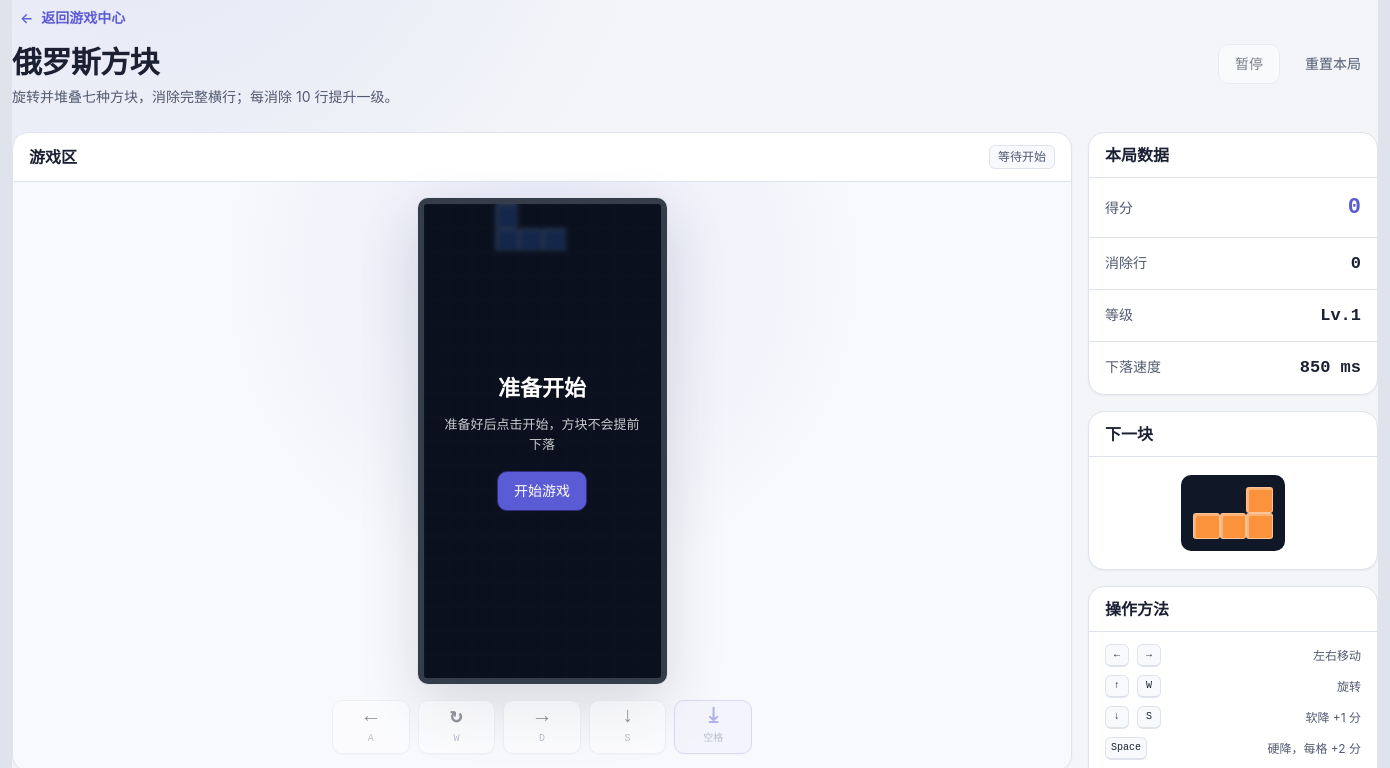
TetrisGamePage › supports keyboard movement and on-screen hard drop, then resets
Step 1. Click the button "开始游戏" → (542, 491), box [497,471,587,511]
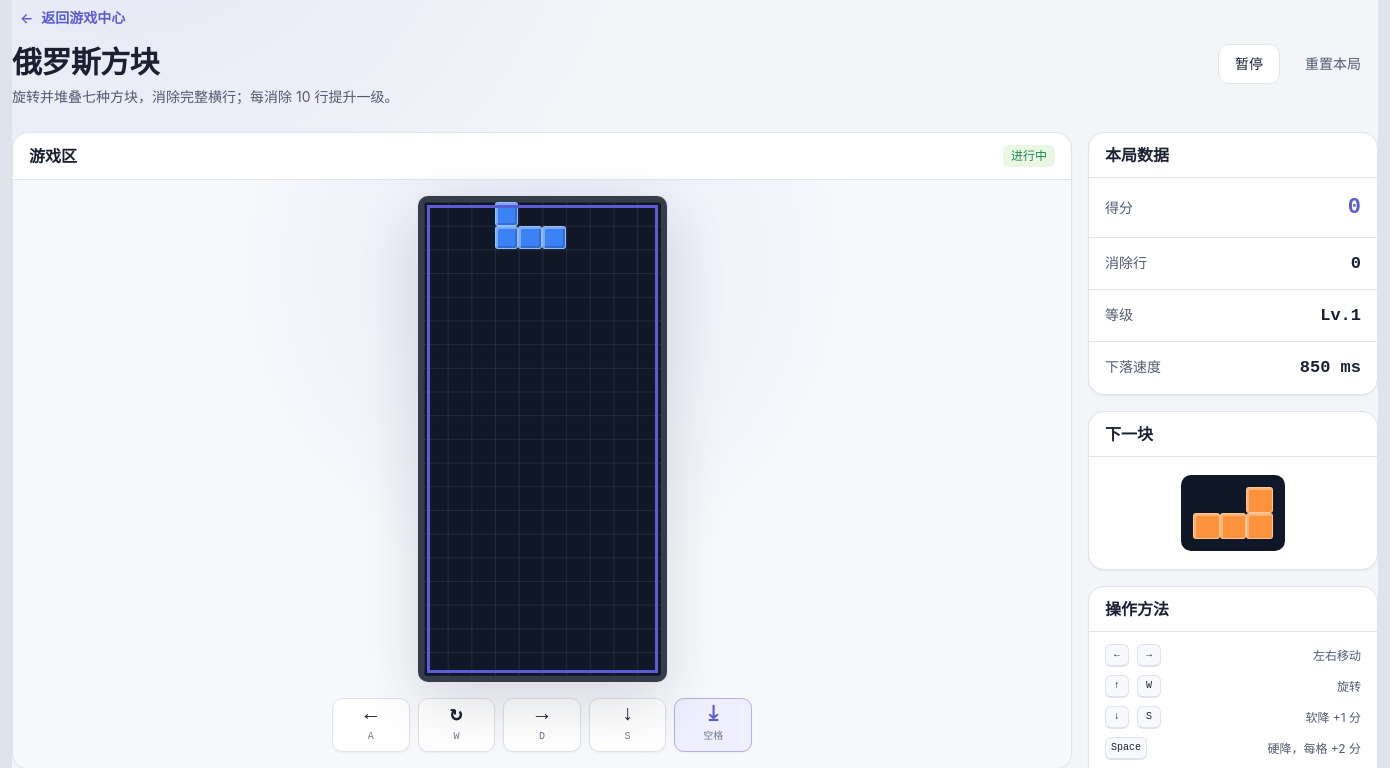
Step 2. Press ArrowLeft
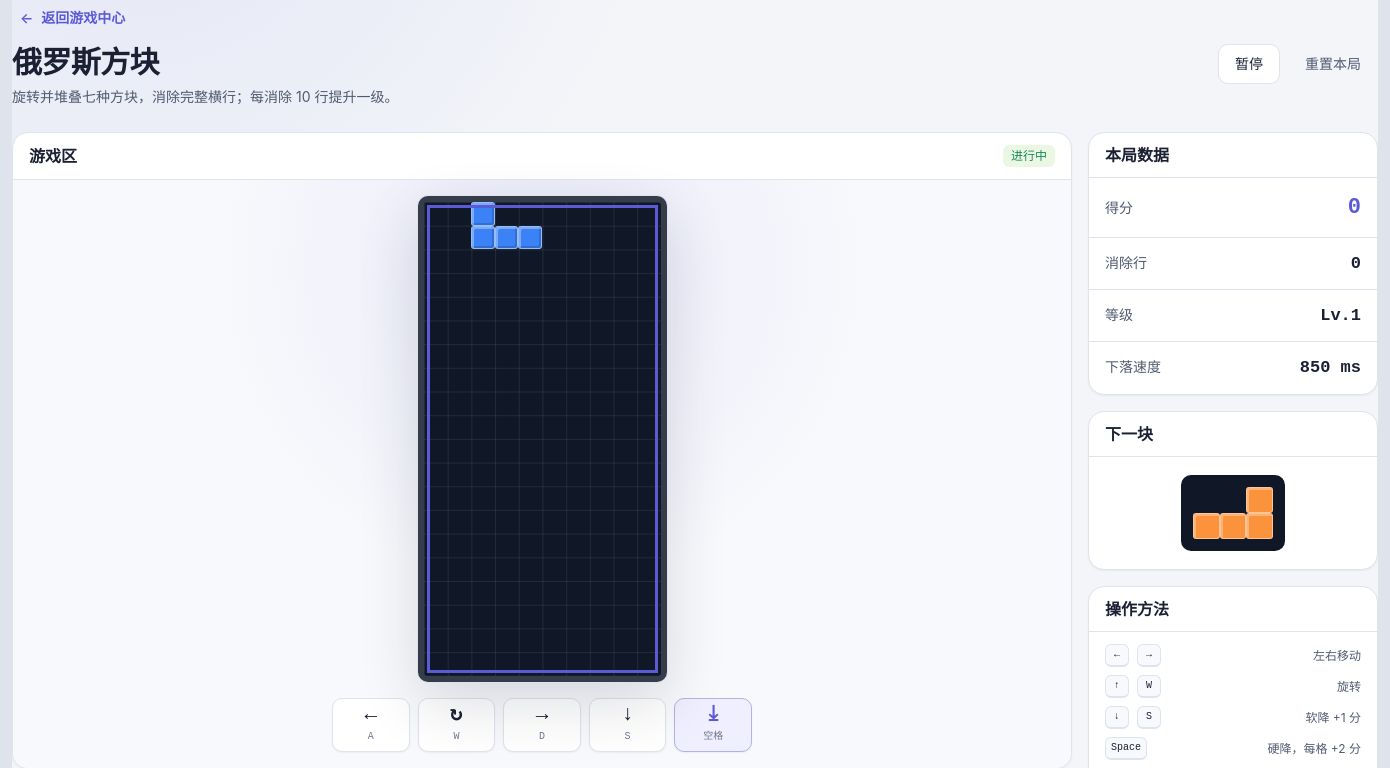
Step 3. Click the button with aria-label "硬降" → (713, 725), box [674,698,752,752]
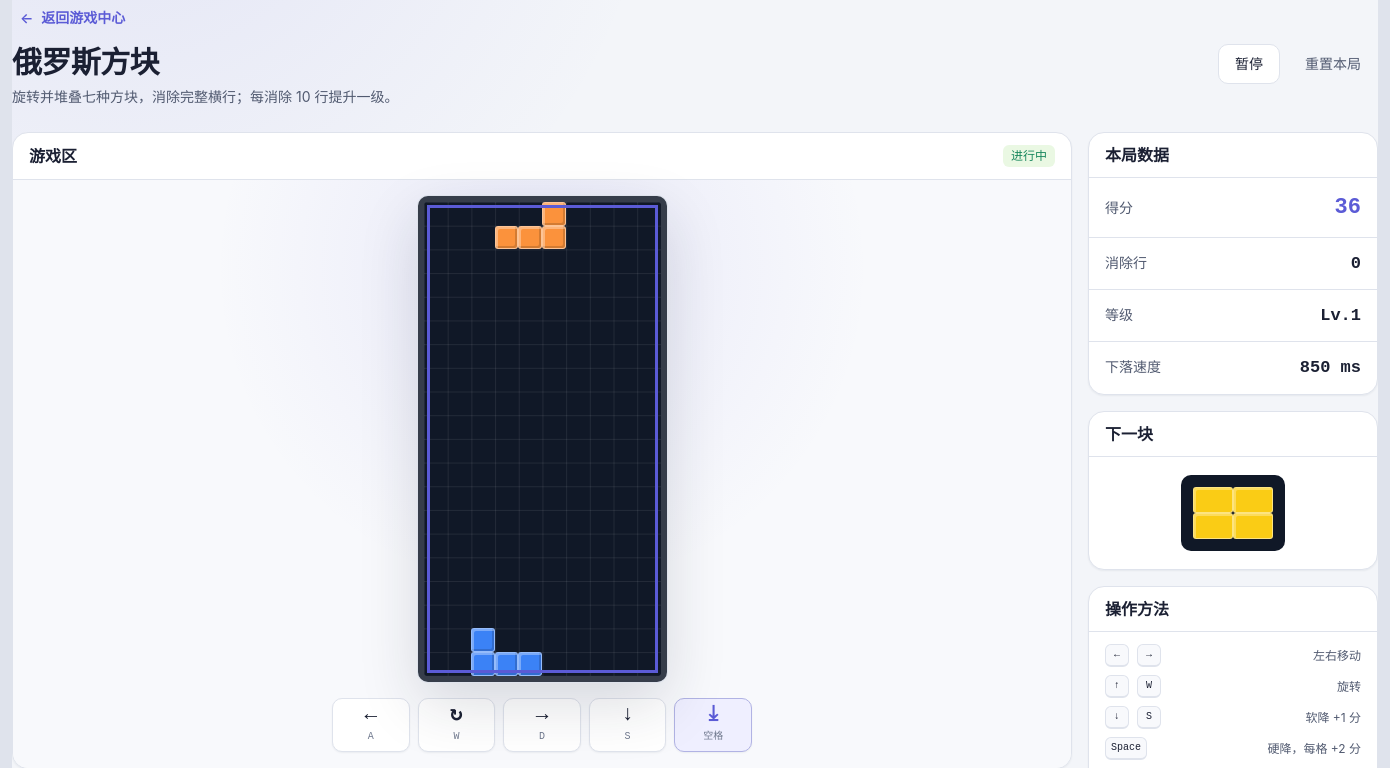
Step 4. Click the button "重置本局" → (1333, 64), box [1288,44,1378,84]
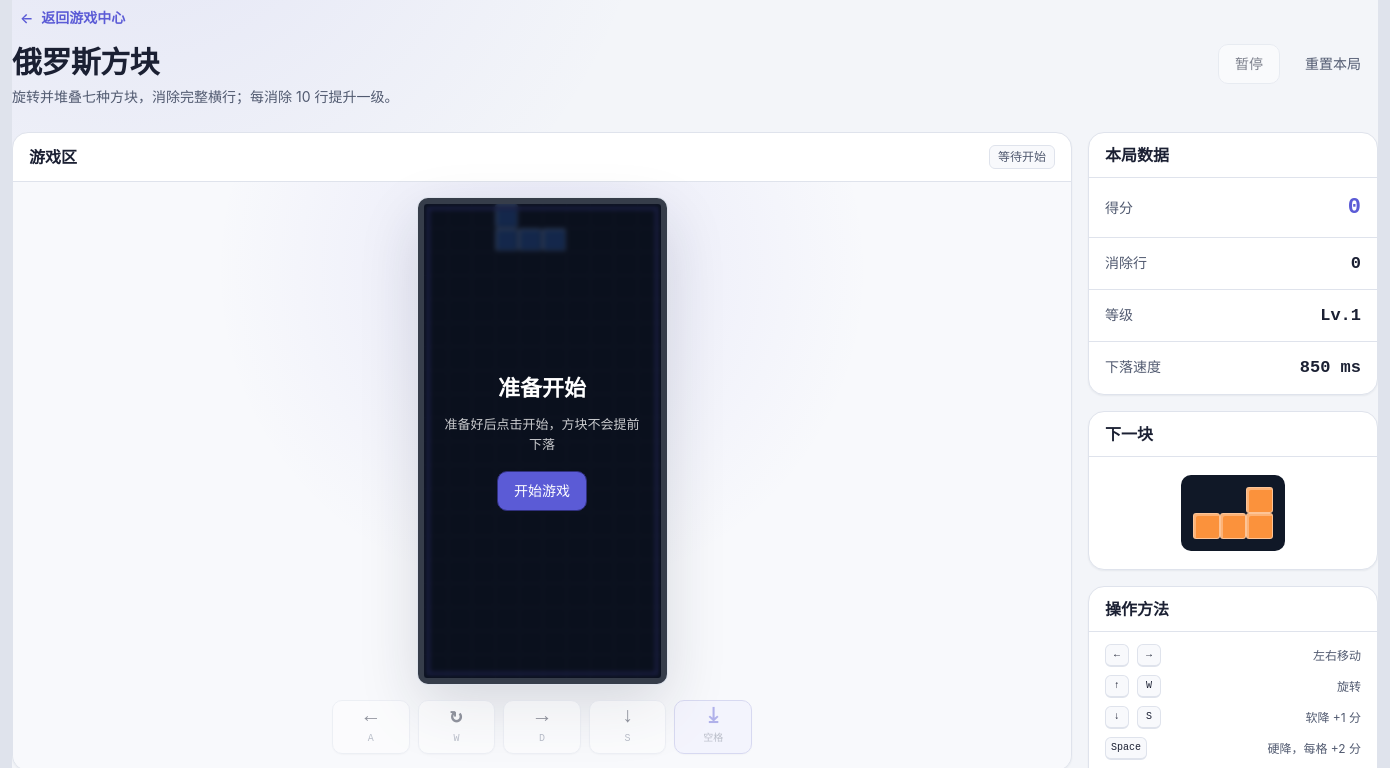
expect the text with test id "tetris-score" reads "0": met, box [1348,195,1361,220]
expect the text "准备开始" is shown: met, box [498,370,586,406]
